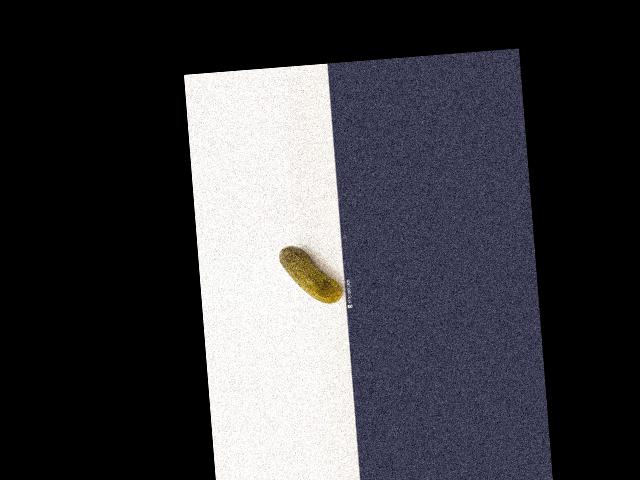cucumber: (279, 241, 343, 307)
